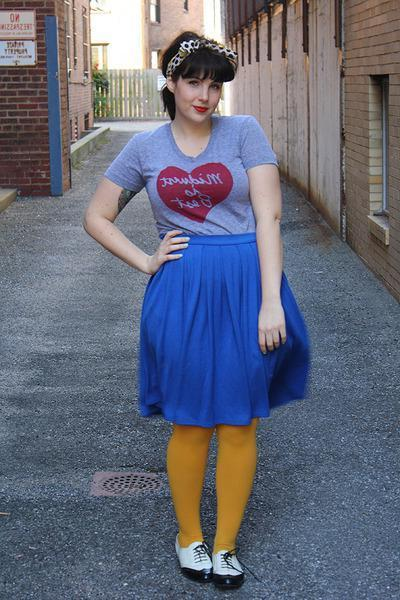short sleeve shirt: (99, 111, 280, 242)
skirt: (128, 231, 313, 428)
